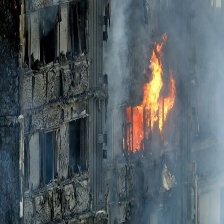fire: (123, 42, 180, 152)
smoke: (109, 1, 224, 213)
